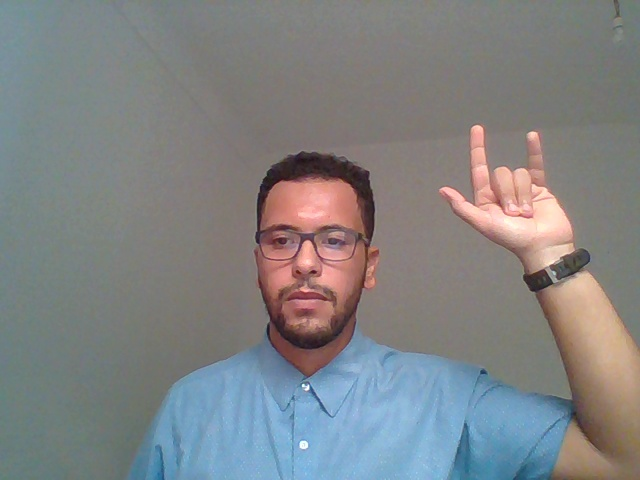iloveyou: (417, 103, 616, 406)
